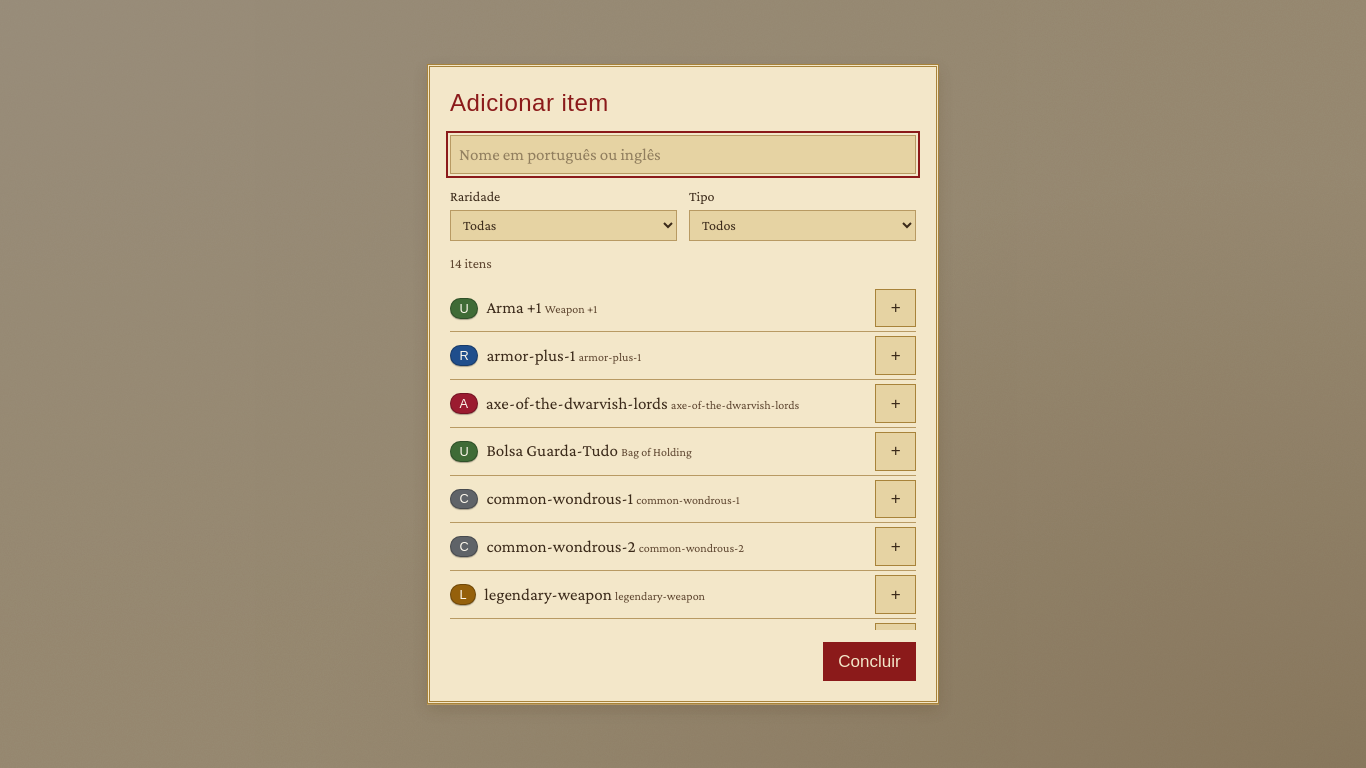
it: CatalogPicker › filtra por raridade
Select "Raro" in the dropdown labelled "Raridade" at (564, 225), box [450,210,677,241]
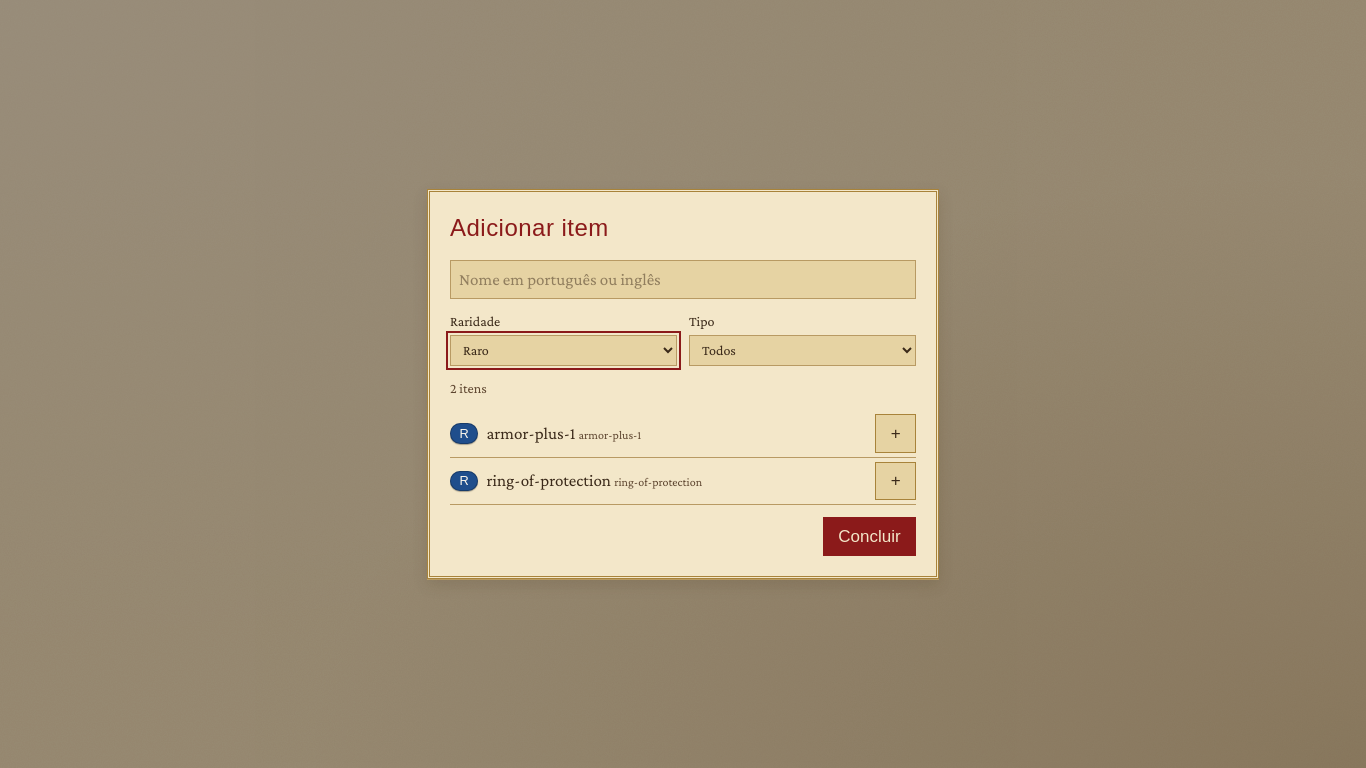
Expected: the message reads "2 itens", [450,380,487,396]
